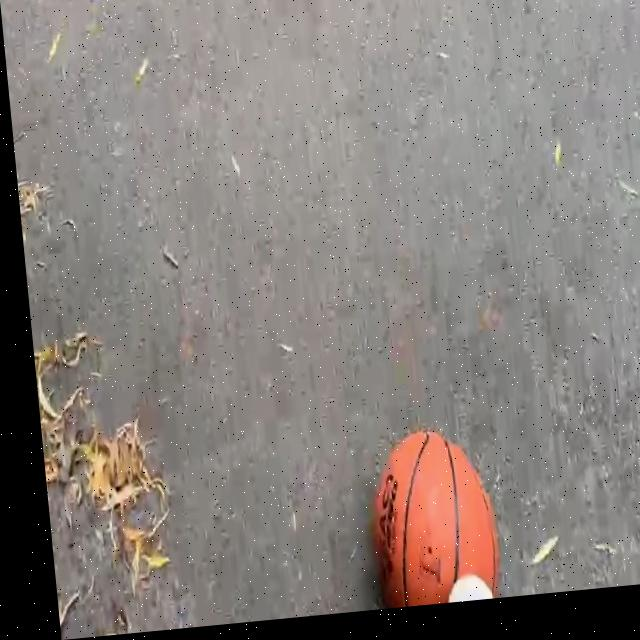Basketball: (364, 426, 504, 609)
